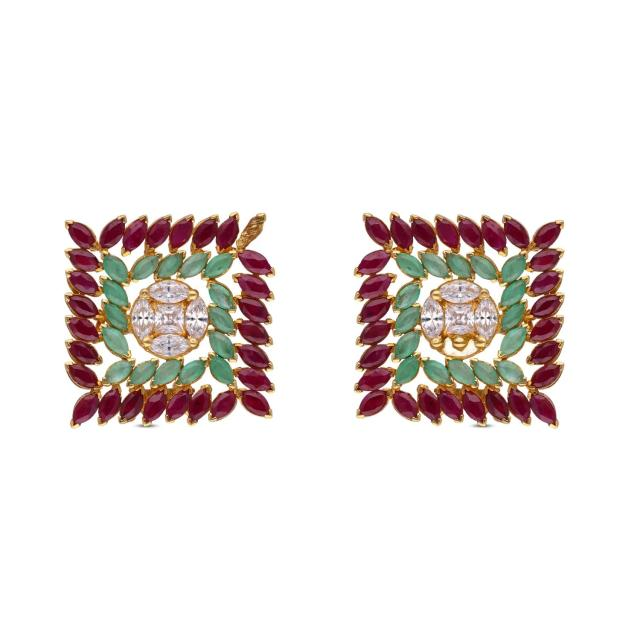missing gem: (237, 215, 263, 249), (442, 339, 480, 355)
